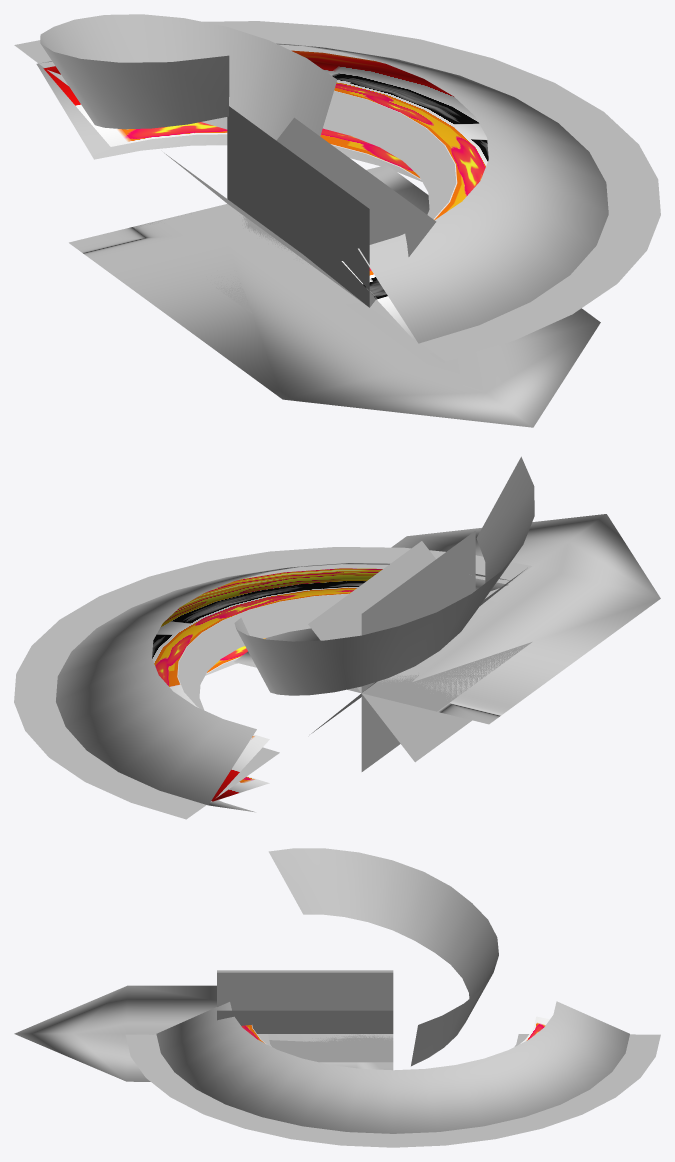
The model's file is chr088_bs01_ef_01.fbx.
3 renders of one model, top to bottom at view 1: azimuth 30°, elevation 25°; view 2: azimuth 150°, elevation 25°; view 3: azimuth 270°, elevation 25°, orthographic. The views are drawn at different scales.
Parts seen in each view (by area): view 1: o_sowrd_aura, o_slash_00, o_slash_02, o_wind_00, o_panel, o_slash_01; view 2: o_sowrd_aura, o_slash_02, o_slash_00, o_panel, o_wind_00, o_slash_01; view 3: o_slash_00, o_wind_00, o_panel, o_slash_02, o_sowrd_aura.
Part boxes in pixels (x1,y1,x2,y2): o_sowrd_aura: (69, 165, 600, 427); o_slash_00: (36, 43, 608, 343); o_slash_02: (14, 21, 660, 360); o_wind_00: (40, 14, 337, 140); o_panel: (133, 106, 436, 313); o_slash_01: (43, 50, 488, 338); o_sowrd_aura: (234, 514, 660, 724); o_slash_02: (14, 547, 532, 819); o_slash_00: (56, 563, 512, 812); o_panel: (308, 531, 531, 771); o_wind_00: (234, 456, 534, 695); o_slash_01: (152, 568, 508, 801); o_slash_00: (156, 1001, 629, 1133); o_wind_00: (268, 848, 498, 1066); o_panel: (217, 970, 393, 1062); o_slash_02: (125, 1034, 660, 1147); o_sowrd_aura: (14, 985, 393, 1081).
Bounding box in the file's own units: 43.24 × 25.87 × 70.95.
